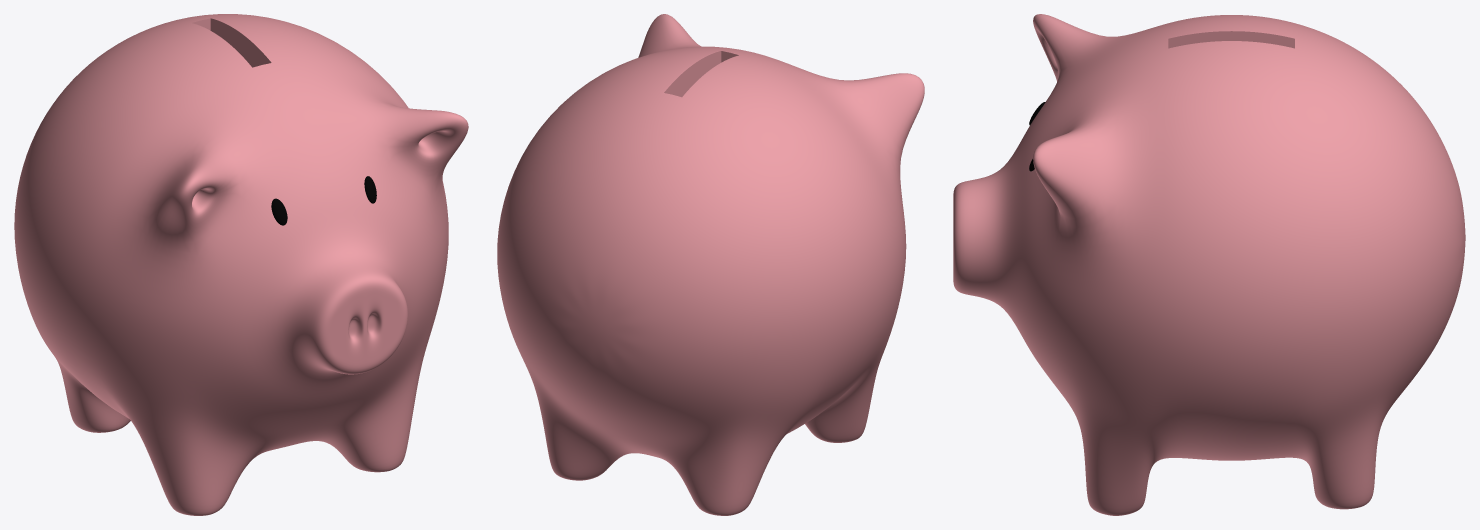
File: chancho.glb
3 views of the same model, side by side, from view 1: azimuth 30°, elevation 25°; view 2: azimuth 150°, elevation 25°; view 3: azimuth 270°, elevation 25° (orthographic). The views are drawn at different scales.
Parts seen in each view (by area): view 1: Sphere, Sphere.001; view 2: Sphere; view 3: Sphere.
Boxes of the visible parts, x1,y1,x2,y2 form: Sphere: [14, 14, 468, 515]; Sphere.001: [271, 176, 376, 225]; Sphere: [497, 14, 924, 515]; Sphere: [953, 14, 1465, 515].
Size of the model in its own units: 0.6136 by 0.6438 by 0.7047.
